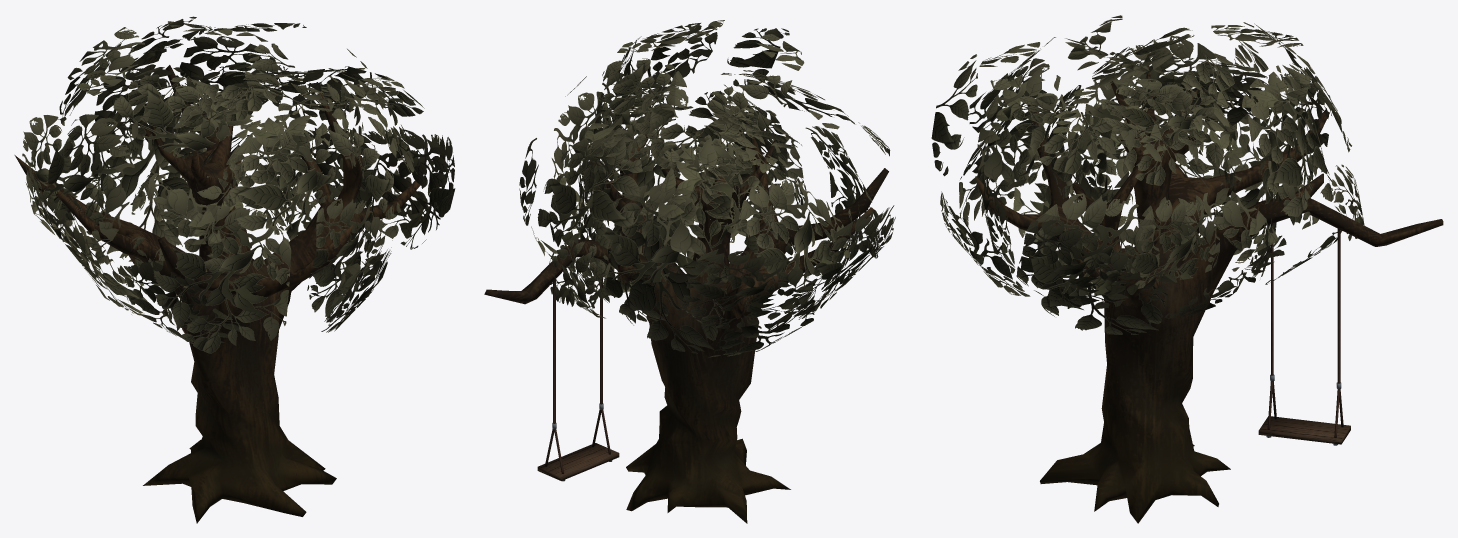
Rendered from TreeWleafs_low.fbx.
The picture shows the model from 3 angles, left to right: view 1: azimuth 30°, elevation 25°; view 2: azimuth 150°, elevation 25°; view 3: azimuth 270°, elevation 25°; orthographic projection. The views are drawn at different scales.
Visible parts, largest first — view 1: Leafs_low, Tree_low; view 2: Leafs_low, Tree_low, Swing_low; view 3: Leafs_low, Tree_low, Swing_low.
Part boxes in pixels (left/top/right/bottom): Leafs_low: left=22, top=16, right=455, bottom=353; Tree_low: left=14, top=65, right=420, bottom=523; Leafs_low: left=519, top=20, right=895, bottom=357; Tree_low: left=484, top=117, right=888, bottom=523; Swing_low: left=537, top=277, right=619, bottom=481; Leafs_low: left=931, top=15, right=1364, bottom=334; Tree_low: left=975, top=53, right=1443, bottom=523; Swing_low: left=1258, top=223, right=1350, bottom=445.
Size of the model in its own units: 1745 by 1993 by 2050.
